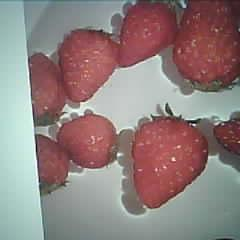straw-ripe: (132, 117, 208, 208), (174, 7, 240, 88), (59, 29, 119, 102), (118, 0, 176, 70)
